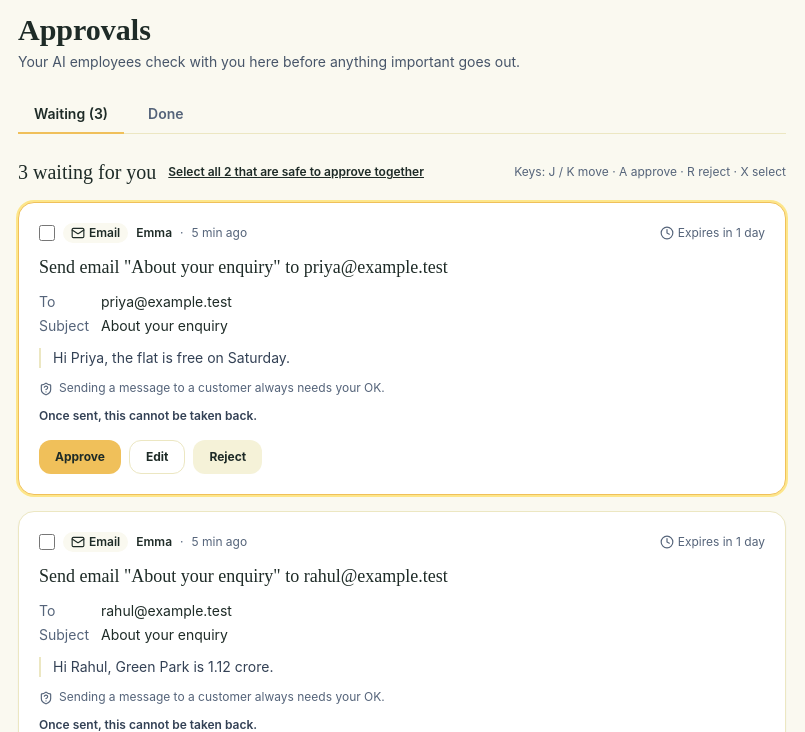
Test: Approvals page › tells the person when it did not run, in plain words, and keeps the card
expect the heading "Send email \"About your enquiry\" to priya@example.test" is shown: met, box left=39, top=257, right=448, bottom=277
Click the button "Approve" at (80, 457), box left=39, top=440, right=121, bottom=474
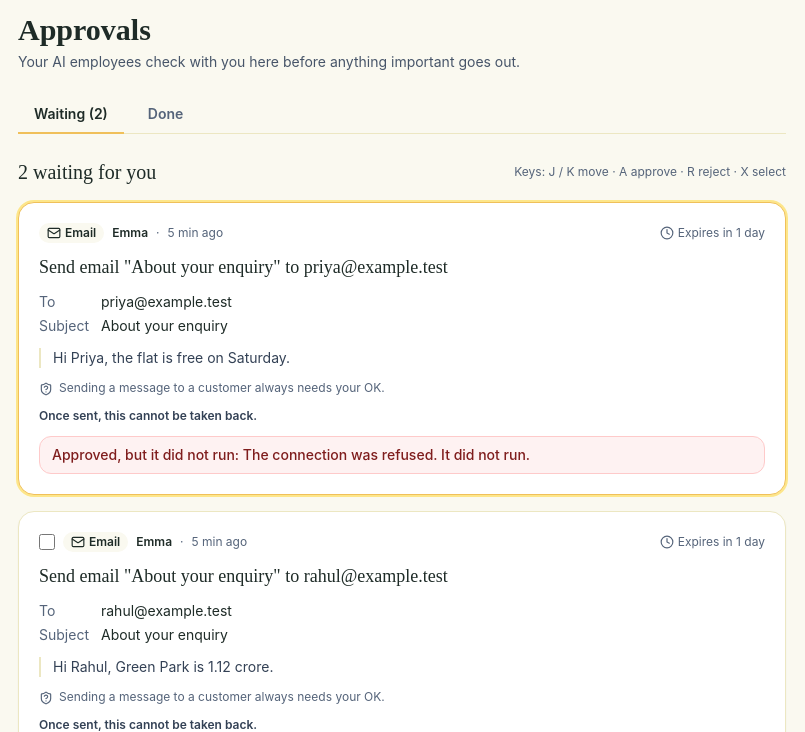
expect the text "Approved, but it did not run: The connection was refused" is shown: met, box left=52, top=446, right=530, bottom=463
